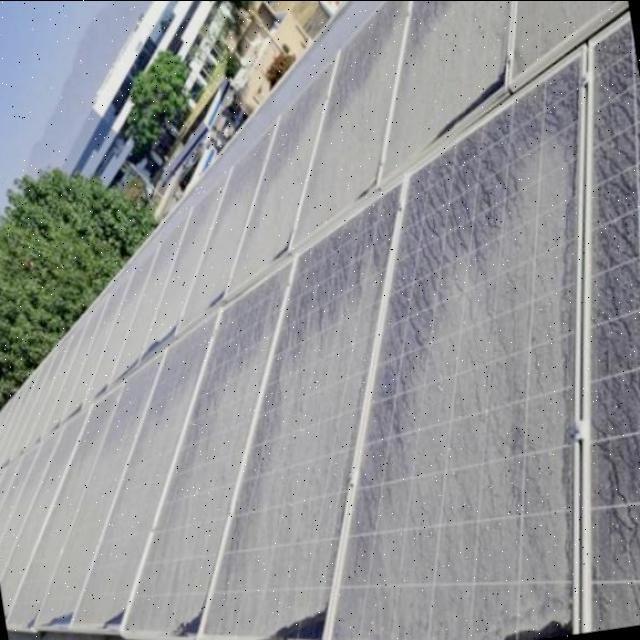Surface Contaminant: (0, 0, 640, 640), (328, 102, 576, 640), (0, 111, 280, 469), (196, 180, 402, 640), (121, 259, 295, 637), (33, 347, 166, 631), (224, 51, 337, 297), (377, 0, 511, 183)
